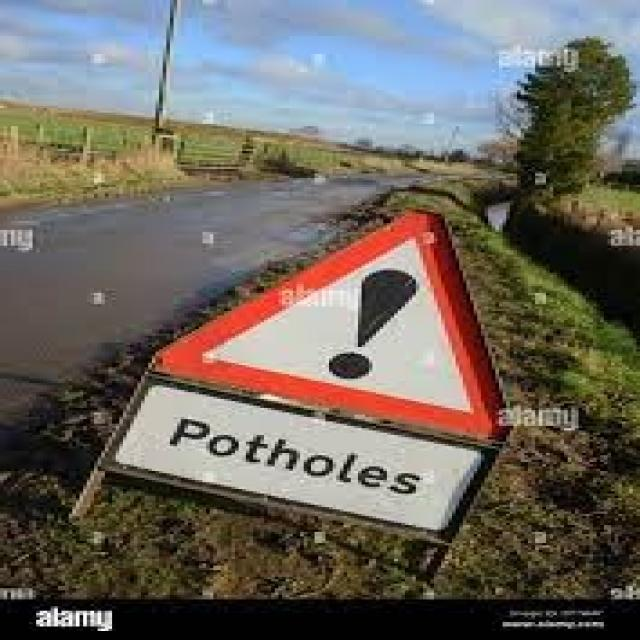warning: (136, 186, 524, 434)
